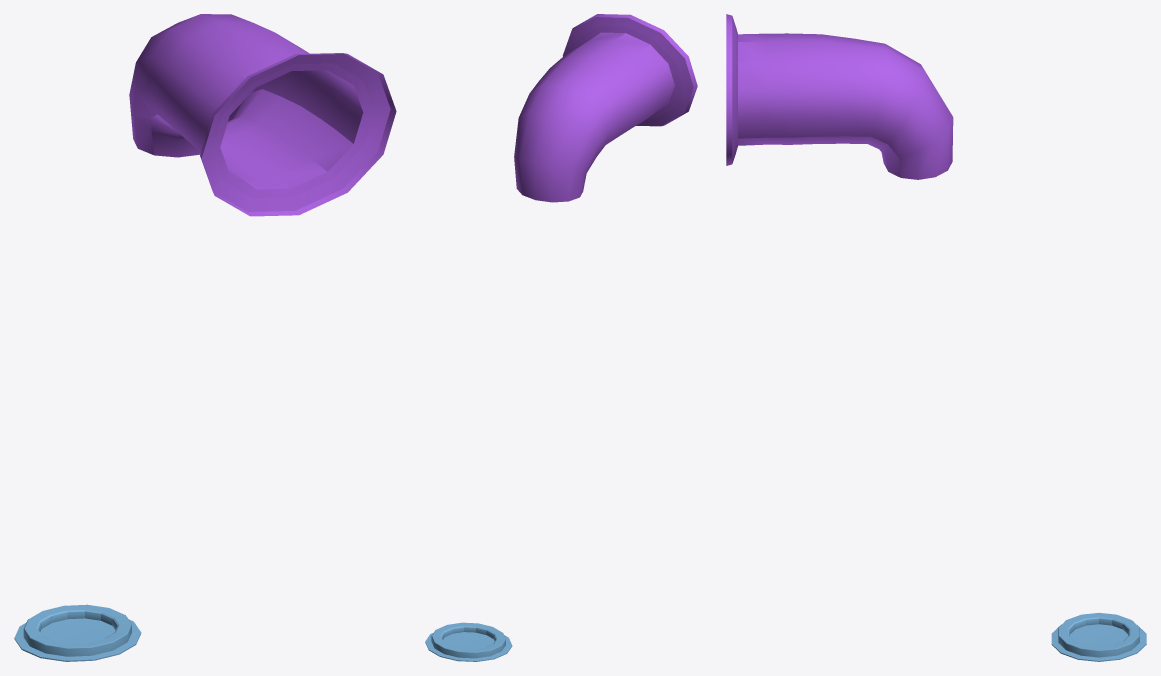
The model's file is Friday_Tub_Drain.fbx.
The picture shows the model from 3 angles, left to right: view 1: azimuth 30°, elevation 25°; view 2: azimuth 150°, elevation 25°; view 3: azimuth 270°, elevation 25°; orthographic projection. The views are drawn at different scales.
Parts seen in each view (by area): view 1: pCylinder2, Drain; view 2: pCylinder2, Drain; view 3: pCylinder2, Drain.
Boxes of the visible parts, x1=… form: pCylinder2: x1=129, y1=14, x2=396, y2=216; Drain: x1=14, y1=604, x2=141, y2=661; pCylinder2: x1=514, y1=14, x2=697, y2=202; Drain: x1=425, y1=622, x2=512, y2=661; pCylinder2: x1=726, y1=14, x2=953, y2=179; Drain: x1=1051, y1=612, x2=1146, y2=661.
Bounding box in the file's own units: 10.38 × 38.15 × 23.74.
